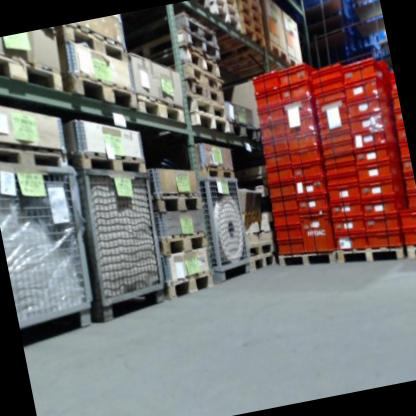pallet: (60, 60, 140, 125), (52, 13, 131, 78), (0, 26, 65, 104), (65, 136, 149, 190), (0, 126, 70, 181), (133, 84, 188, 135), (334, 236, 406, 273), (275, 243, 338, 276), (162, 266, 217, 301), (149, 186, 204, 219), (155, 226, 210, 259), (181, 57, 225, 95), (177, 7, 217, 47), (179, 43, 222, 80), (179, 24, 220, 61), (191, 108, 229, 140), (187, 78, 225, 108), (197, 157, 236, 185), (226, 113, 259, 146), (210, 0, 241, 34), (187, 94, 225, 121), (265, 35, 289, 65), (242, 22, 267, 50), (237, 0, 263, 26), (240, 10, 265, 37), (246, 237, 275, 259), (212, 0, 240, 21), (248, 253, 278, 272), (239, 0, 260, 15), (402, 242, 416, 264), (287, 53, 300, 68), (220, 0, 235, 6)
small_load_carrier: (297, 210, 338, 259), (339, 56, 388, 87), (354, 158, 402, 186), (348, 126, 398, 152), (345, 93, 394, 119), (357, 177, 406, 202), (346, 111, 396, 135), (322, 177, 362, 206), (360, 194, 407, 218), (343, 79, 391, 102), (281, 95, 319, 123), (352, 145, 399, 167), (367, 229, 404, 256), (327, 199, 365, 224), (364, 212, 404, 235), (283, 112, 319, 137), (294, 193, 330, 217), (333, 232, 370, 255), (284, 129, 322, 151), (290, 158, 326, 181), (279, 80, 313, 104), (276, 61, 311, 84), (287, 145, 324, 166), (330, 217, 367, 238), (249, 70, 282, 93), (252, 87, 285, 110), (257, 117, 287, 140), (259, 135, 290, 156), (268, 194, 299, 215), (294, 176, 327, 195), (262, 150, 293, 170), (312, 91, 348, 108), (315, 111, 349, 129), (324, 165, 358, 183), (265, 165, 295, 185), (310, 71, 345, 88), (266, 180, 297, 199), (275, 238, 304, 258), (271, 210, 301, 229), (273, 224, 304, 241), (322, 144, 353, 161), (320, 133, 352, 149), (398, 205, 416, 233), (314, 102, 347, 117), (317, 123, 350, 138), (255, 105, 284, 122), (322, 155, 357, 168), (312, 82, 346, 95), (309, 65, 343, 76), (402, 228, 416, 250), (403, 175, 416, 194), (405, 193, 416, 214), (398, 159, 412, 174), (396, 143, 409, 159), (395, 125, 406, 143), (388, 69, 396, 93), (394, 109, 403, 126), (391, 94, 400, 108)
stillage: (0, 143, 111, 347), (70, 150, 175, 320), (189, 165, 256, 285)
